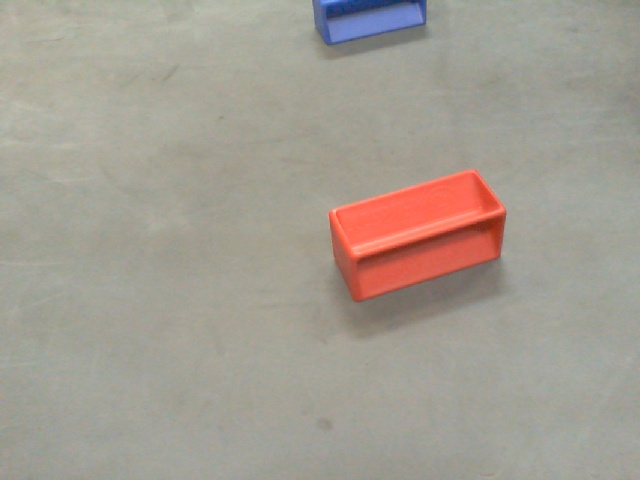BlueSample: (307, 1, 430, 44)
RedSample: (325, 164, 508, 303)
